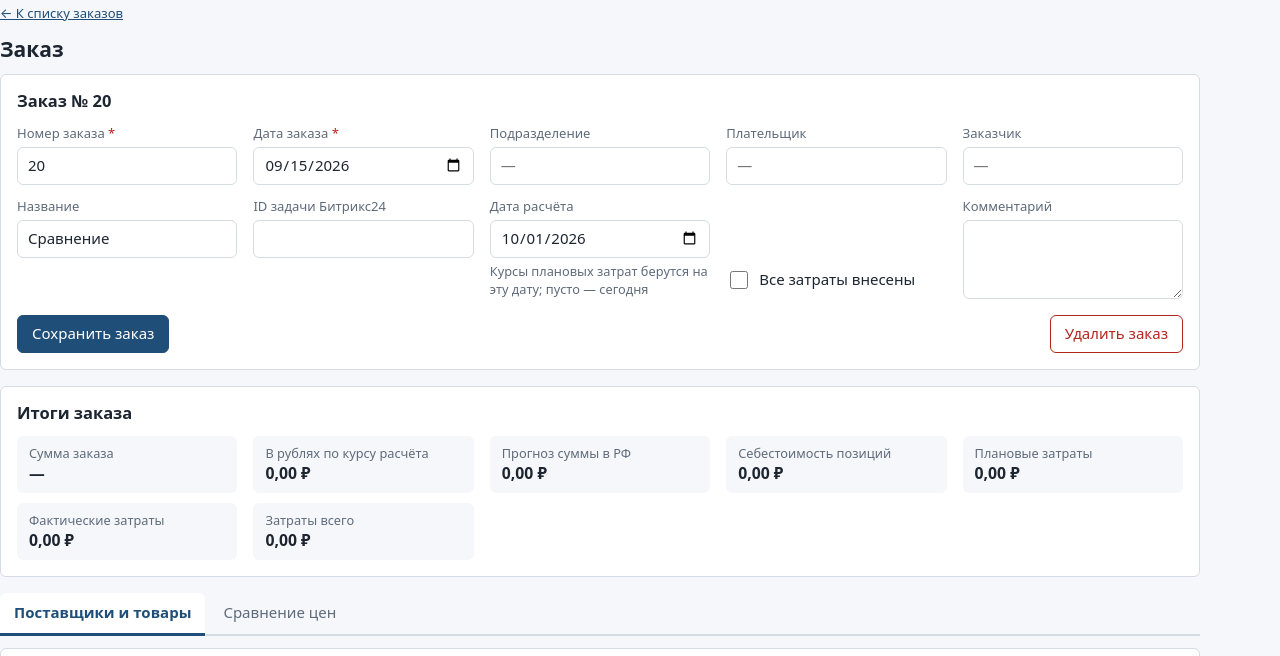
Test case: матрица «Сравнение цен» › пример пользователя: 3 товара × 4 поставщика, пустые ячейки там, где предложения нет
Step 1. Click the tab "Сравнение цен" → [280, 615], box [209,593,350,636]
(page scrolled)
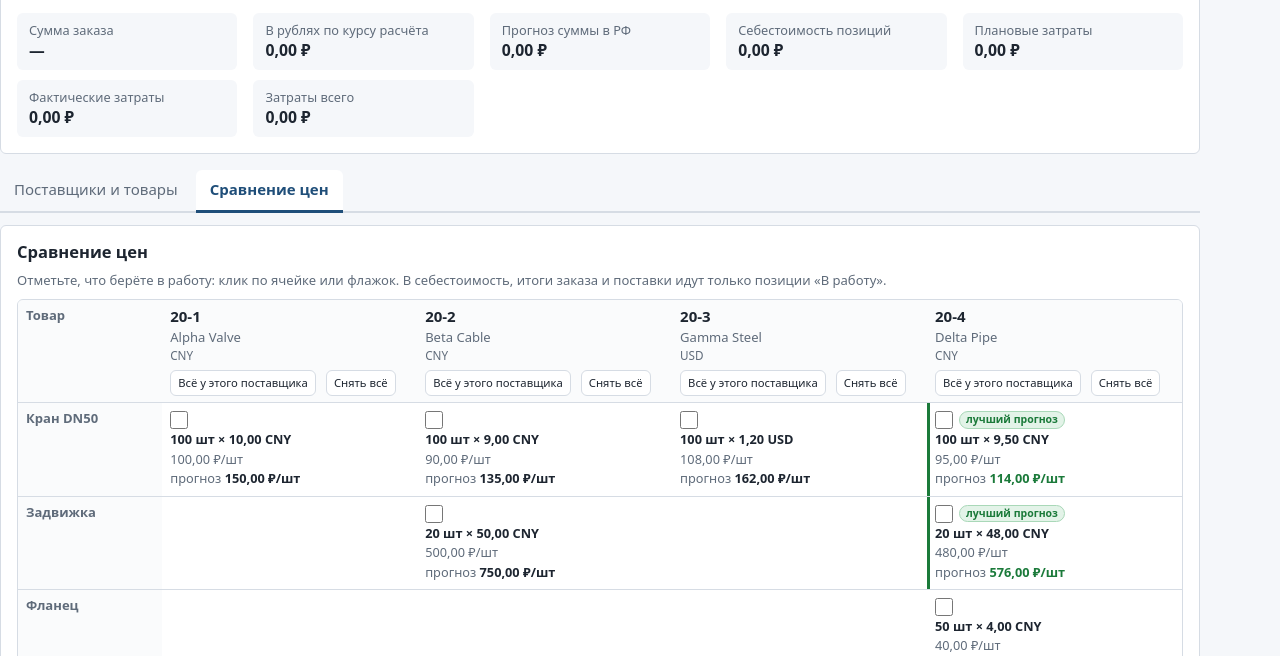
expect the column heading "20-1 Alpha Valve CNY Всё у этого поставщика Снять всё" is shown: met, box [162,300,417,403]
expect the column heading "20-2 Beta Cable CNY Всё у этого поставщика Снять всё" is shown: met, box [417,300,672,403]
expect the column heading "20-3 Gamma Steel USD Всё у этого поставщика Снять всё" is shown: met, box [672,300,927,403]
